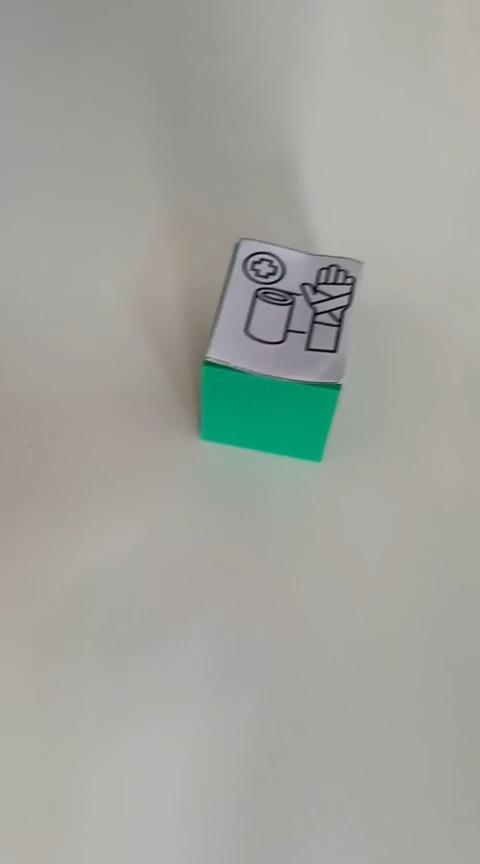Bandages: (198, 236, 365, 463)
